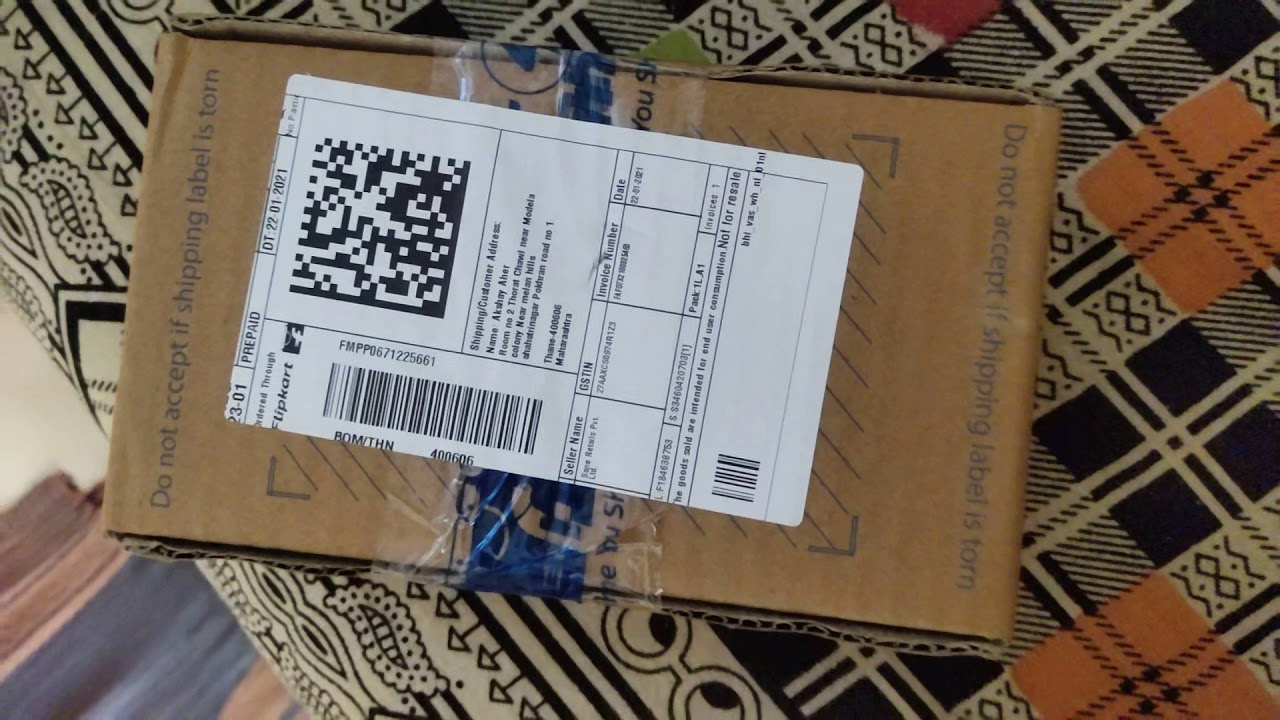QRCode: (262, 90, 776, 447)
